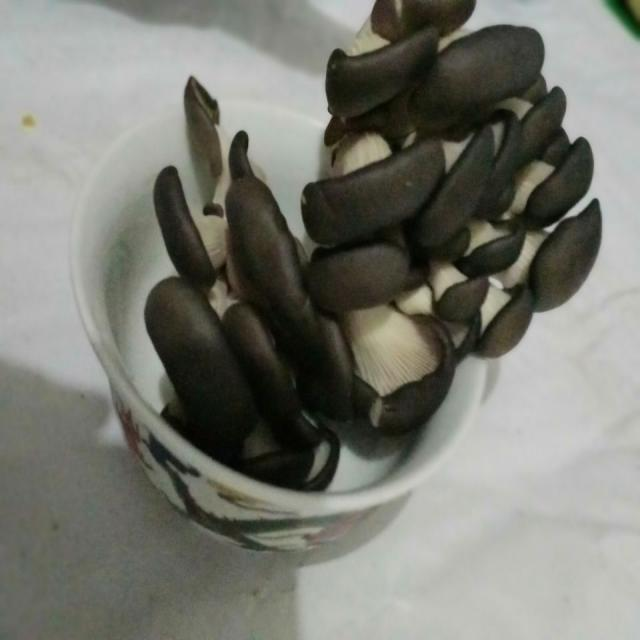Pleurotus ostreatus: (302, 0, 604, 423), (142, 74, 353, 493)
